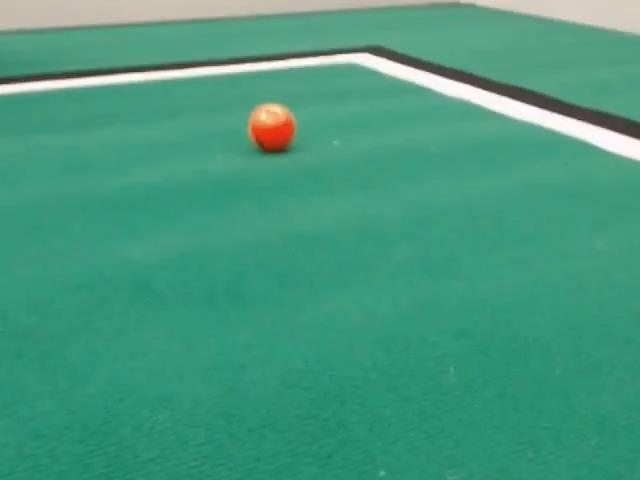Ball: (248, 103, 295, 152)
